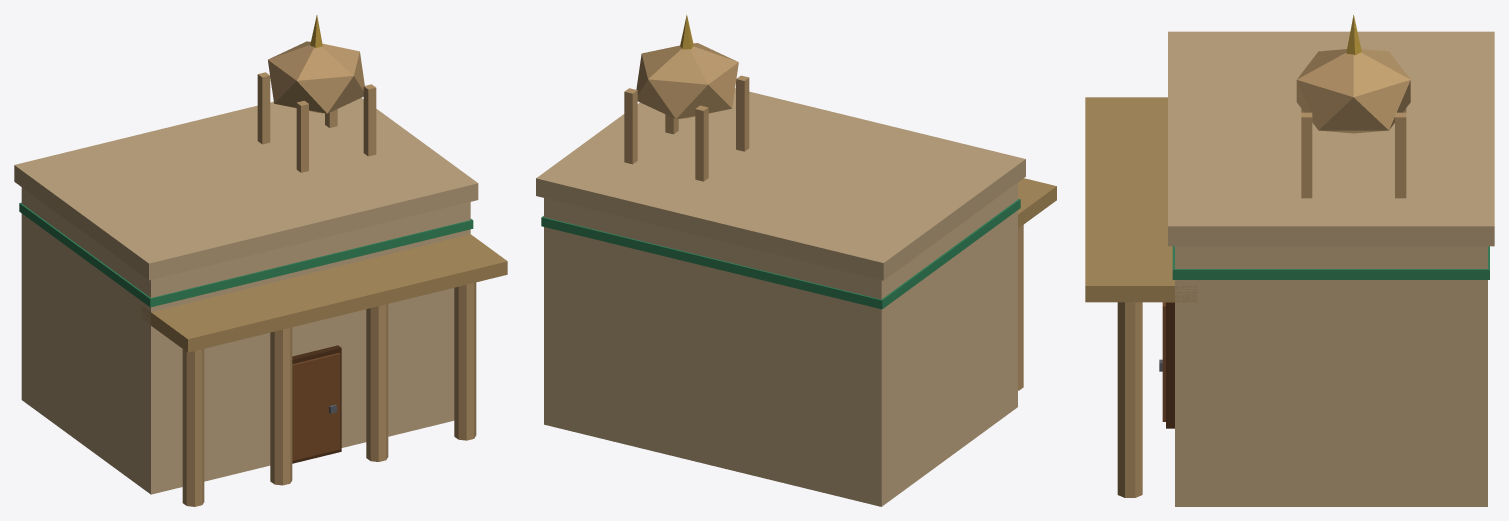
File: cat_house_a_broken.glb
3 views of the same model, side by side, from view 1: azimuth 30°, elevation 25°; view 2: azimuth 150°, elevation 25°; view 3: azimuth 270°, elevation 25° (orthographic). The views are drawn at different scales.
Parts seen in each view (by area): view 1: cat_house_a_piece4, cat_house_a_piece9, cat_house_a_piece7, cat_house_a_piece1, cat_house_a_piece2, cat_house_a_piece5, cat_house_a_piece0, cat_house_a_piece3, cat_house_a_piece6, cat_house_a_piece8, cat_house_a_piece10; view 2: cat_house_a_piece2, cat_house_a_piece3, cat_house_a_piece4, cat_house_a_piece9, cat_house_a_piece6, cat_house_a_piece5, cat_house_a_piece1, cat_house_a_piece0, cat_house_a_piece7, cat_house_a_piece10, cat_house_a_piece8; view 3: cat_house_a_piece0, cat_house_a_piece7, cat_house_a_piece3, cat_house_a_piece5, cat_house_a_piece9, cat_house_a_piece1, cat_house_a_piece6, cat_house_a_piece2, cat_house_a_piece10, cat_house_a_piece8.
Part boxes in pixels (<box>): cat_house_a_piece4: <box>38,211,318,506</box>; cat_house_a_piece9: <box>86,191,277,437</box>; cat_house_a_piece7: <box>335,103,507,406</box>; cat_house_a_piece1: <box>189,88,414,458</box>; cat_house_a_piece2: <box>14,127,176,411</box>; cat_house_a_piece5: <box>233,15,375,332</box>; cat_house_a_piece0: <box>313,110,476,440</box>; cat_house_a_piece3: <box>170,41,363,196</box>; cat_house_a_piece6: <box>292,362,421,463</box>; cat_house_a_piece8: <box>182,179,271,452</box>; cat_house_a_piece10: <box>288,109,377,171</box>; cat_house_a_piece2: <box>625,183,950,506</box>; cat_house_a_piece3: <box>536,76,866,345</box>; cat_house_a_piece4: <box>899,200,1023,493</box>; cat_house_a_piece9: <box>841,127,1056,317</box>; cat_house_a_piece6: <box>544,294,676,456</box>; cat_house_a_piece5: <box>637,14,895,162</box>; cat_house_a_piece1: <box>708,93,831,145</box>; cat_house_a_piece0: <box>573,118,710,151</box>; cat_house_a_piece7: <box>618,88,753,138</box>; cat_house_a_piece10: <box>544,143,752,352</box>; cat_house_a_piece8: <box>789,155,1023,328</box>; cat_house_a_piece0: <box>1117,173,1477,506</box>; cat_house_a_piece7: <box>1085,134,1312,423</box>; cat_house_a_piece3: <box>1312,72,1494,395</box>; cat_house_a_piece5: <box>1085,15,1405,177</box>; cat_house_a_piece9: <box>1085,31,1320,150</box>; cat_house_a_piece1: <box>1085,117,1323,304</box>; cat_house_a_piece6: <box>1159,328,1487,506</box>; cat_house_a_piece2: <box>1319,31,1494,123</box>; cat_house_a_piece10: <box>1312,149,1487,429</box>; cat_house_a_piece8: <box>1131,100,1314,165</box>.
Bounding box in the file's own units: 2.06 × 2.2 × 1.83.
